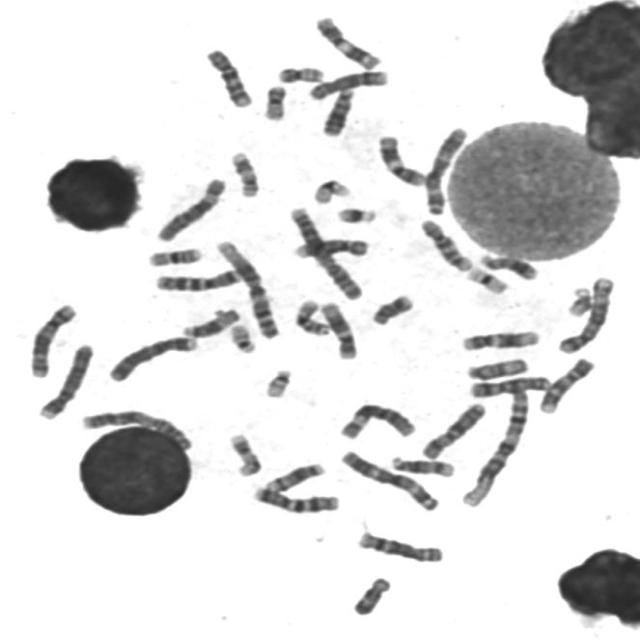A1: (457, 382, 533, 510), (211, 236, 282, 340)
A2: (285, 203, 366, 301), (75, 406, 195, 454)
A3: (335, 446, 443, 512), (420, 121, 471, 216)
B4: (103, 331, 200, 384), (34, 340, 96, 420)
B5: (554, 273, 618, 356), (25, 299, 79, 379)
C10: (201, 44, 255, 110), (416, 215, 476, 273)
C11: (311, 12, 384, 71), (374, 131, 428, 188)
C12: (317, 297, 360, 361), (456, 326, 544, 352)
C6: (152, 174, 228, 243), (335, 399, 419, 441)
C7: (248, 482, 343, 514), (150, 264, 244, 293)
C8: (352, 527, 447, 564), (304, 65, 391, 102)
C9: (535, 354, 597, 414), (288, 234, 372, 260)
D13: (474, 250, 541, 281), (318, 85, 357, 138)
D14: (261, 459, 327, 494), (386, 452, 458, 479)
D15: (179, 304, 243, 340), (461, 354, 531, 382)
E16: (291, 296, 332, 337), (143, 244, 205, 268)
E17: (226, 148, 262, 200), (225, 430, 264, 478)
E18: (347, 573, 394, 617), (367, 290, 416, 326)
F19: (462, 263, 511, 296), (309, 175, 353, 206)
F20: (258, 82, 290, 122), (273, 62, 326, 84)
G21: (333, 202, 379, 225), (566, 287, 592, 319)
G22: (225, 320, 259, 355), (260, 365, 294, 399)
X: (417, 398, 489, 461), (465, 372, 553, 398)
